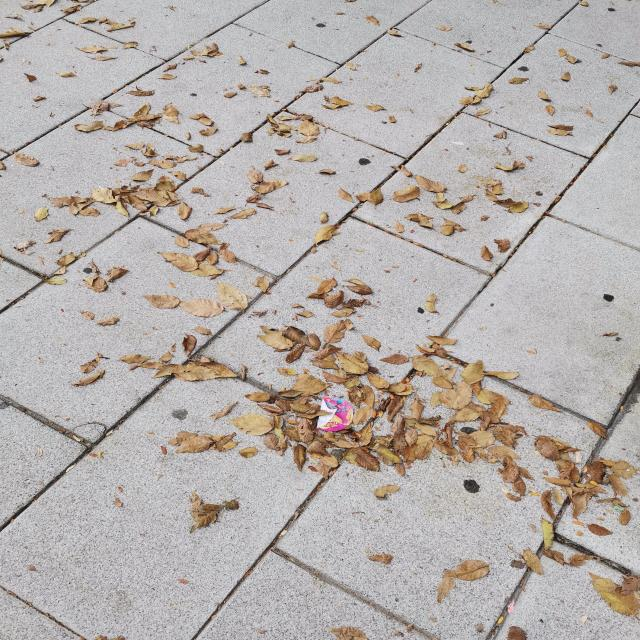litter: (317, 397, 354, 431)
